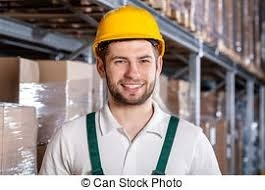helmet: (91, 3, 168, 60)
person with partial safety: (34, 4, 224, 175)
